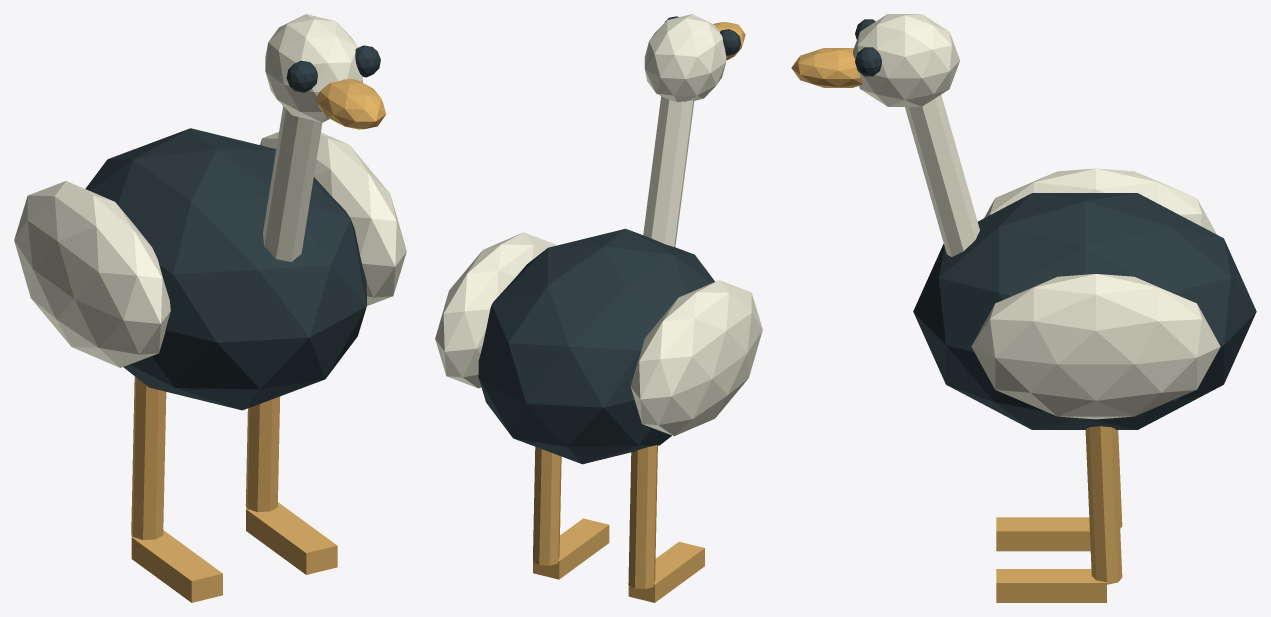
File: ostrich.glb
3 renders of one model, left to right at view 1: azimuth 30°, elevation 25°; view 2: azimuth 150°, elevation 25°; view 3: azimuth 270°, elevation 25°, orthographic. The views are drawn at different scales.
Parts seen in each view (by area): view 1: Animal_body.002, Wing feathers, Wing feathers.001, Ostrich head, Long neck, Animal_Leg0.002, Long foot, Long foot.001, Animal_Leg1.002, Beak, Eye.004, Eye.005; view 2: Animal_body.002, Wing feathers, Wing feathers.001, Ostrich head, Long neck, Animal_Leg0.002, Animal_Leg1.002, Long foot.001, Long foot; view 3: Animal_body.002, Wing feathers.001, Ostrich head, Long neck, Animal_Leg1.002, Wing feathers, Long foot.001, Long foot, Beak, Eye.005.
Part boxes in pixels (bbox=[...]): Animal_body.002: bbox=[85, 128, 366, 410]; Wing feathers: bbox=[14, 181, 170, 367]; Wing feathers.001: bbox=[260, 132, 406, 305]; Ostrich head: bbox=[265, 14, 362, 122]; Long neck: bbox=[263, 106, 322, 261]; Animal_Leg0.002: bbox=[131, 376, 166, 539]; Long foot: bbox=[131, 530, 222, 602]; Long foot.001: bbox=[246, 502, 337, 574]; Animal_Leg1.002: bbox=[245, 396, 280, 512]; Beak: bbox=[316, 78, 386, 129]; Eye.004: bbox=[286, 60, 317, 92]; Eye.005: bbox=[355, 45, 380, 77]; Animal_body.002: bbox=[478, 228, 714, 464]; Wing feathers: bbox=[630, 280, 762, 436]; Wing feathers.001: bbox=[435, 232, 556, 388]; Ostrich head: bbox=[644, 14, 726, 102]; Long neck: bbox=[643, 96, 694, 246]; Animal_Leg0.002: bbox=[628, 445, 657, 588]; Animal_Leg1.002: bbox=[533, 447, 561, 565]; Long foot.001: bbox=[533, 518, 609, 579]; Long foot: bbox=[628, 542, 704, 602]; Animal_body.002: bbox=[913, 193, 1256, 429]; Wing feathers.001: bbox=[971, 274, 1220, 419]; Ostrich head: bbox=[852, 14, 960, 106]; Long neck: bbox=[905, 95, 979, 256]; Animal_Leg1.002: bbox=[1085, 426, 1122, 584]; Wing feathers: bbox=[984, 168, 1216, 234]; Long foot.001: bbox=[996, 569, 1106, 602]; Long foot: bbox=[996, 517, 1090, 551]; Beak: bbox=[791, 48, 862, 87]; Eye.005: bbox=[855, 47, 881, 76].
Size of the model in its own units: 1.2 by 2.21 by 1.68.
